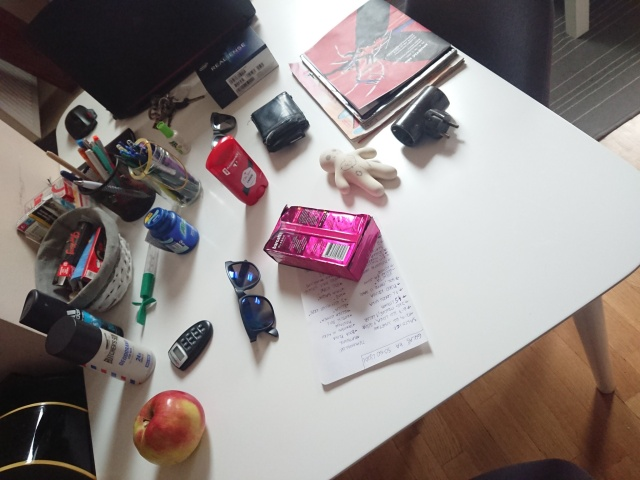Barcaffe Classic Original 225g: (261, 202, 382, 284)
